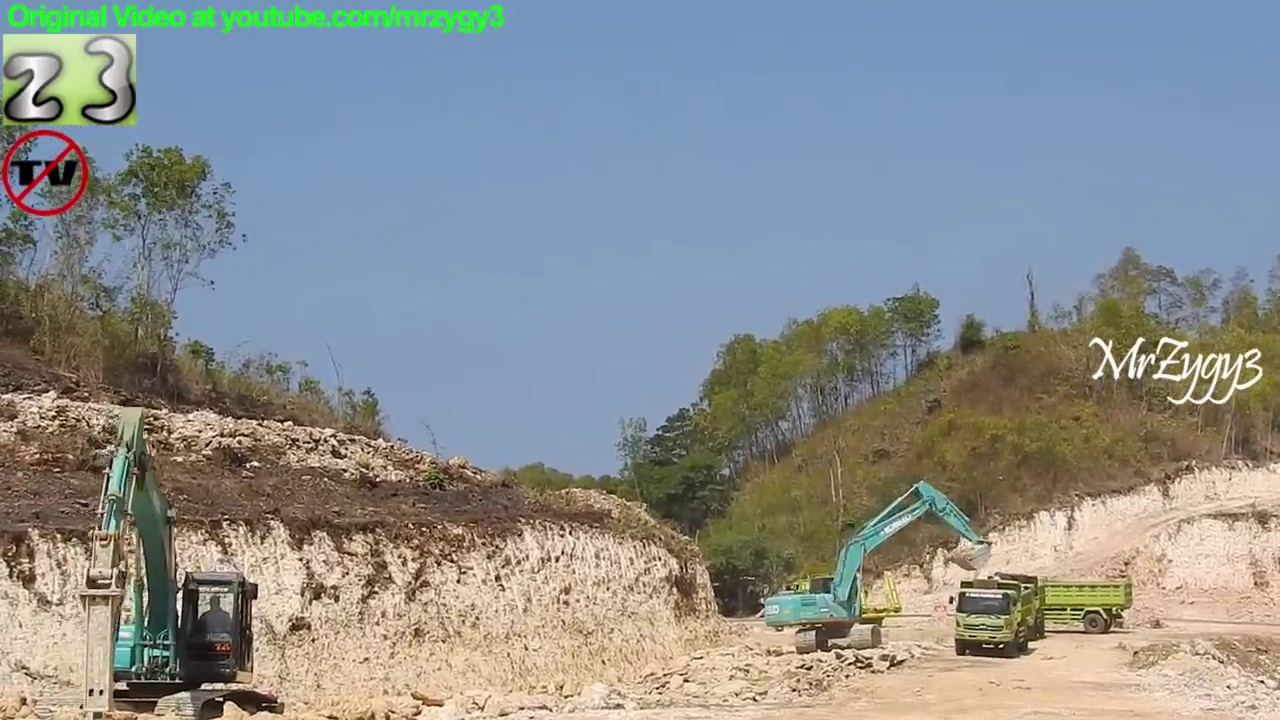excavator: (33, 405, 288, 720), (762, 478, 995, 657)
truck: (974, 571, 1138, 641), (960, 569, 1048, 647), (950, 578, 1034, 659)
